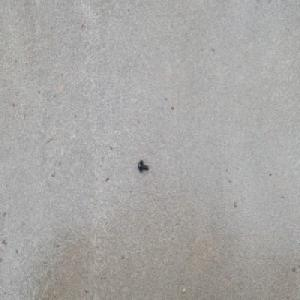BoltWasher: (137, 159, 149, 172)
